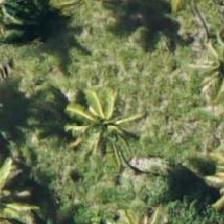coconut_tree: (62, 71, 152, 161)
